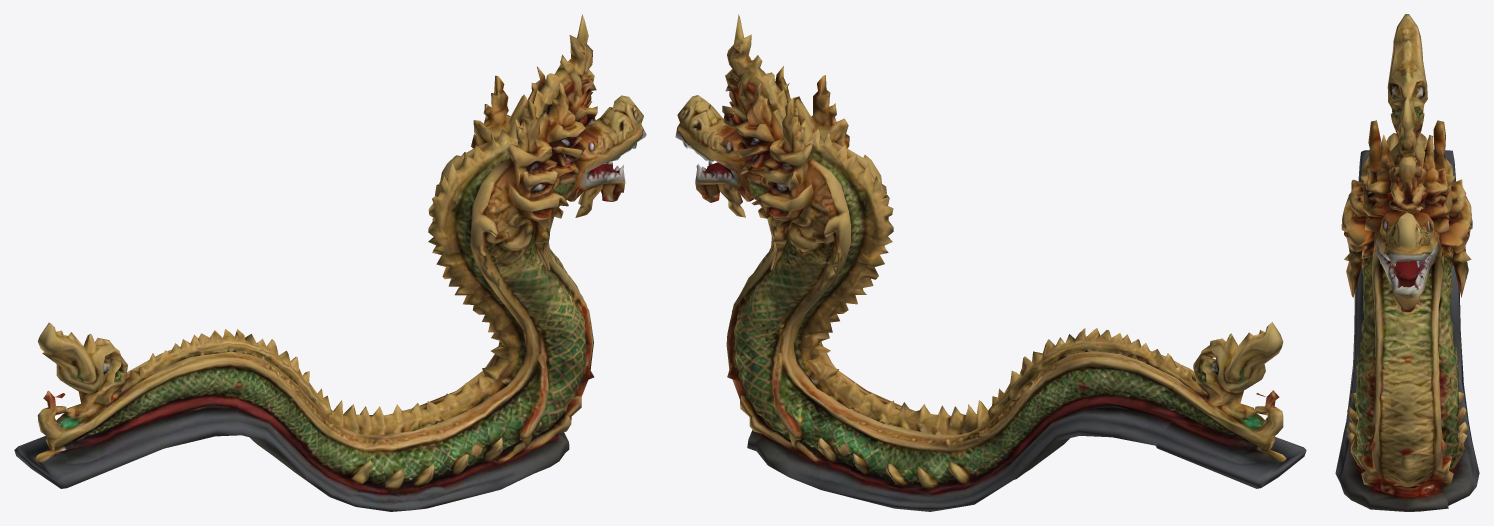
The model's file is naga.glb.
3 views of the same model, side by side, from view 1: azimuth 30°, elevation 25°; view 2: azimuth 150°, elevation 25°; view 3: azimuth 270°, elevation 25° (orthographic). The views are drawn at different scales.
Visible parts, largest first — view 1: tripo_node_23ee9a41-c8f3-4538-ae0f-c392fae912d2; view 2: tripo_node_23ee9a41-c8f3-4538-ae0f-c392fae912d2; view 3: tripo_node_23ee9a41-c8f3-4538-ae0f-c392fae912d2.
Part boxes in pixels (left/top/right/bottom): tripo_node_23ee9a41-c8f3-4538-ae0f-c392fae912d2: left=14, top=14, right=646, bottom=511; tripo_node_23ee9a41-c8f3-4538-ae0f-c392fae912d2: left=675, top=14, right=1306, bottom=511; tripo_node_23ee9a41-c8f3-4538-ae0f-c392fae912d2: left=1335, top=14, right=1479, bottom=511.
Bounding box in the file's own units: 0.9975 × 0.6698 × 0.1991.
Materials: 1 (1 with a texture image).
